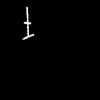double_crochet: (23, 7, 33, 38)
